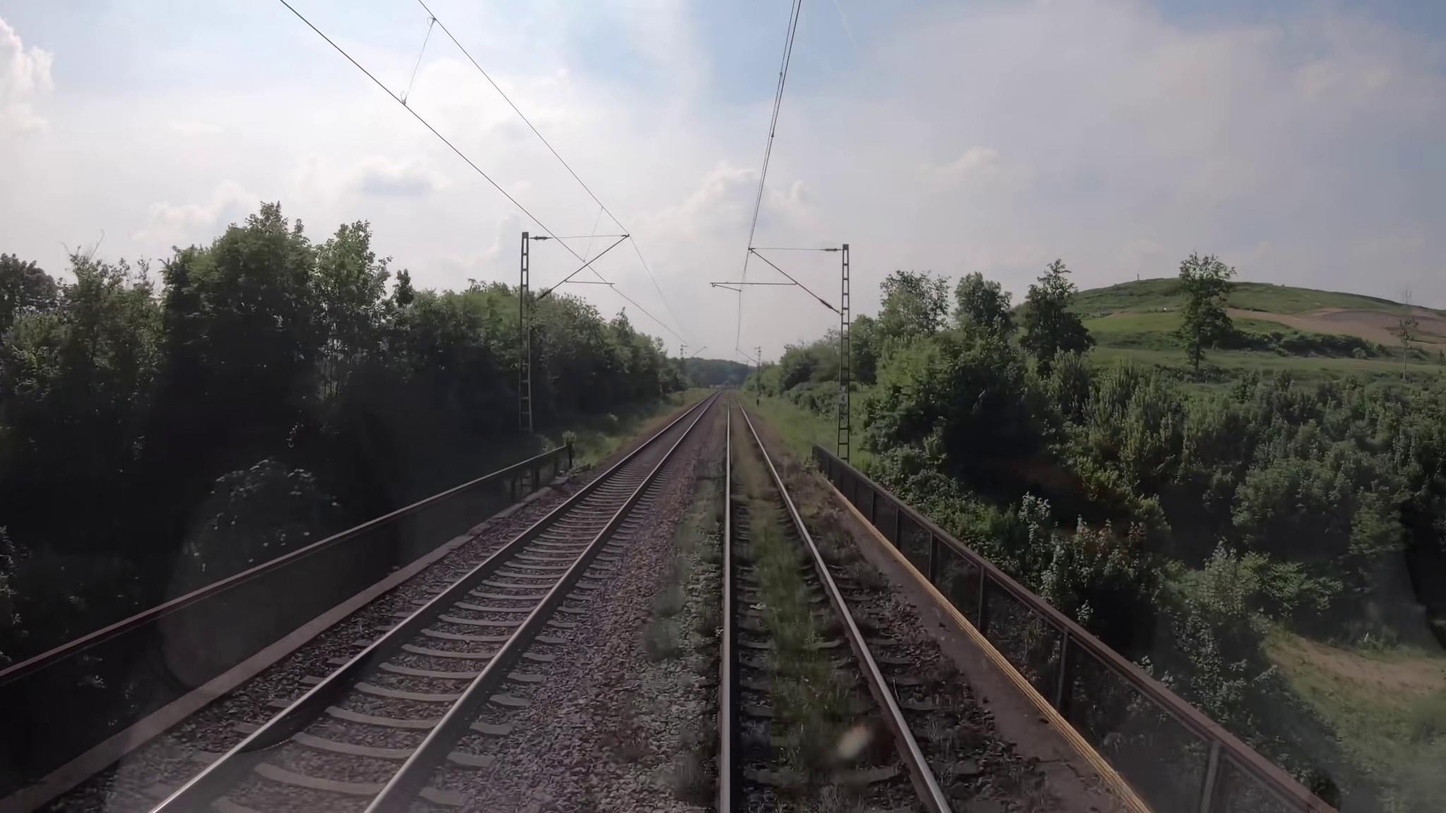Plant: (734, 413, 821, 655), (646, 438, 725, 668)
